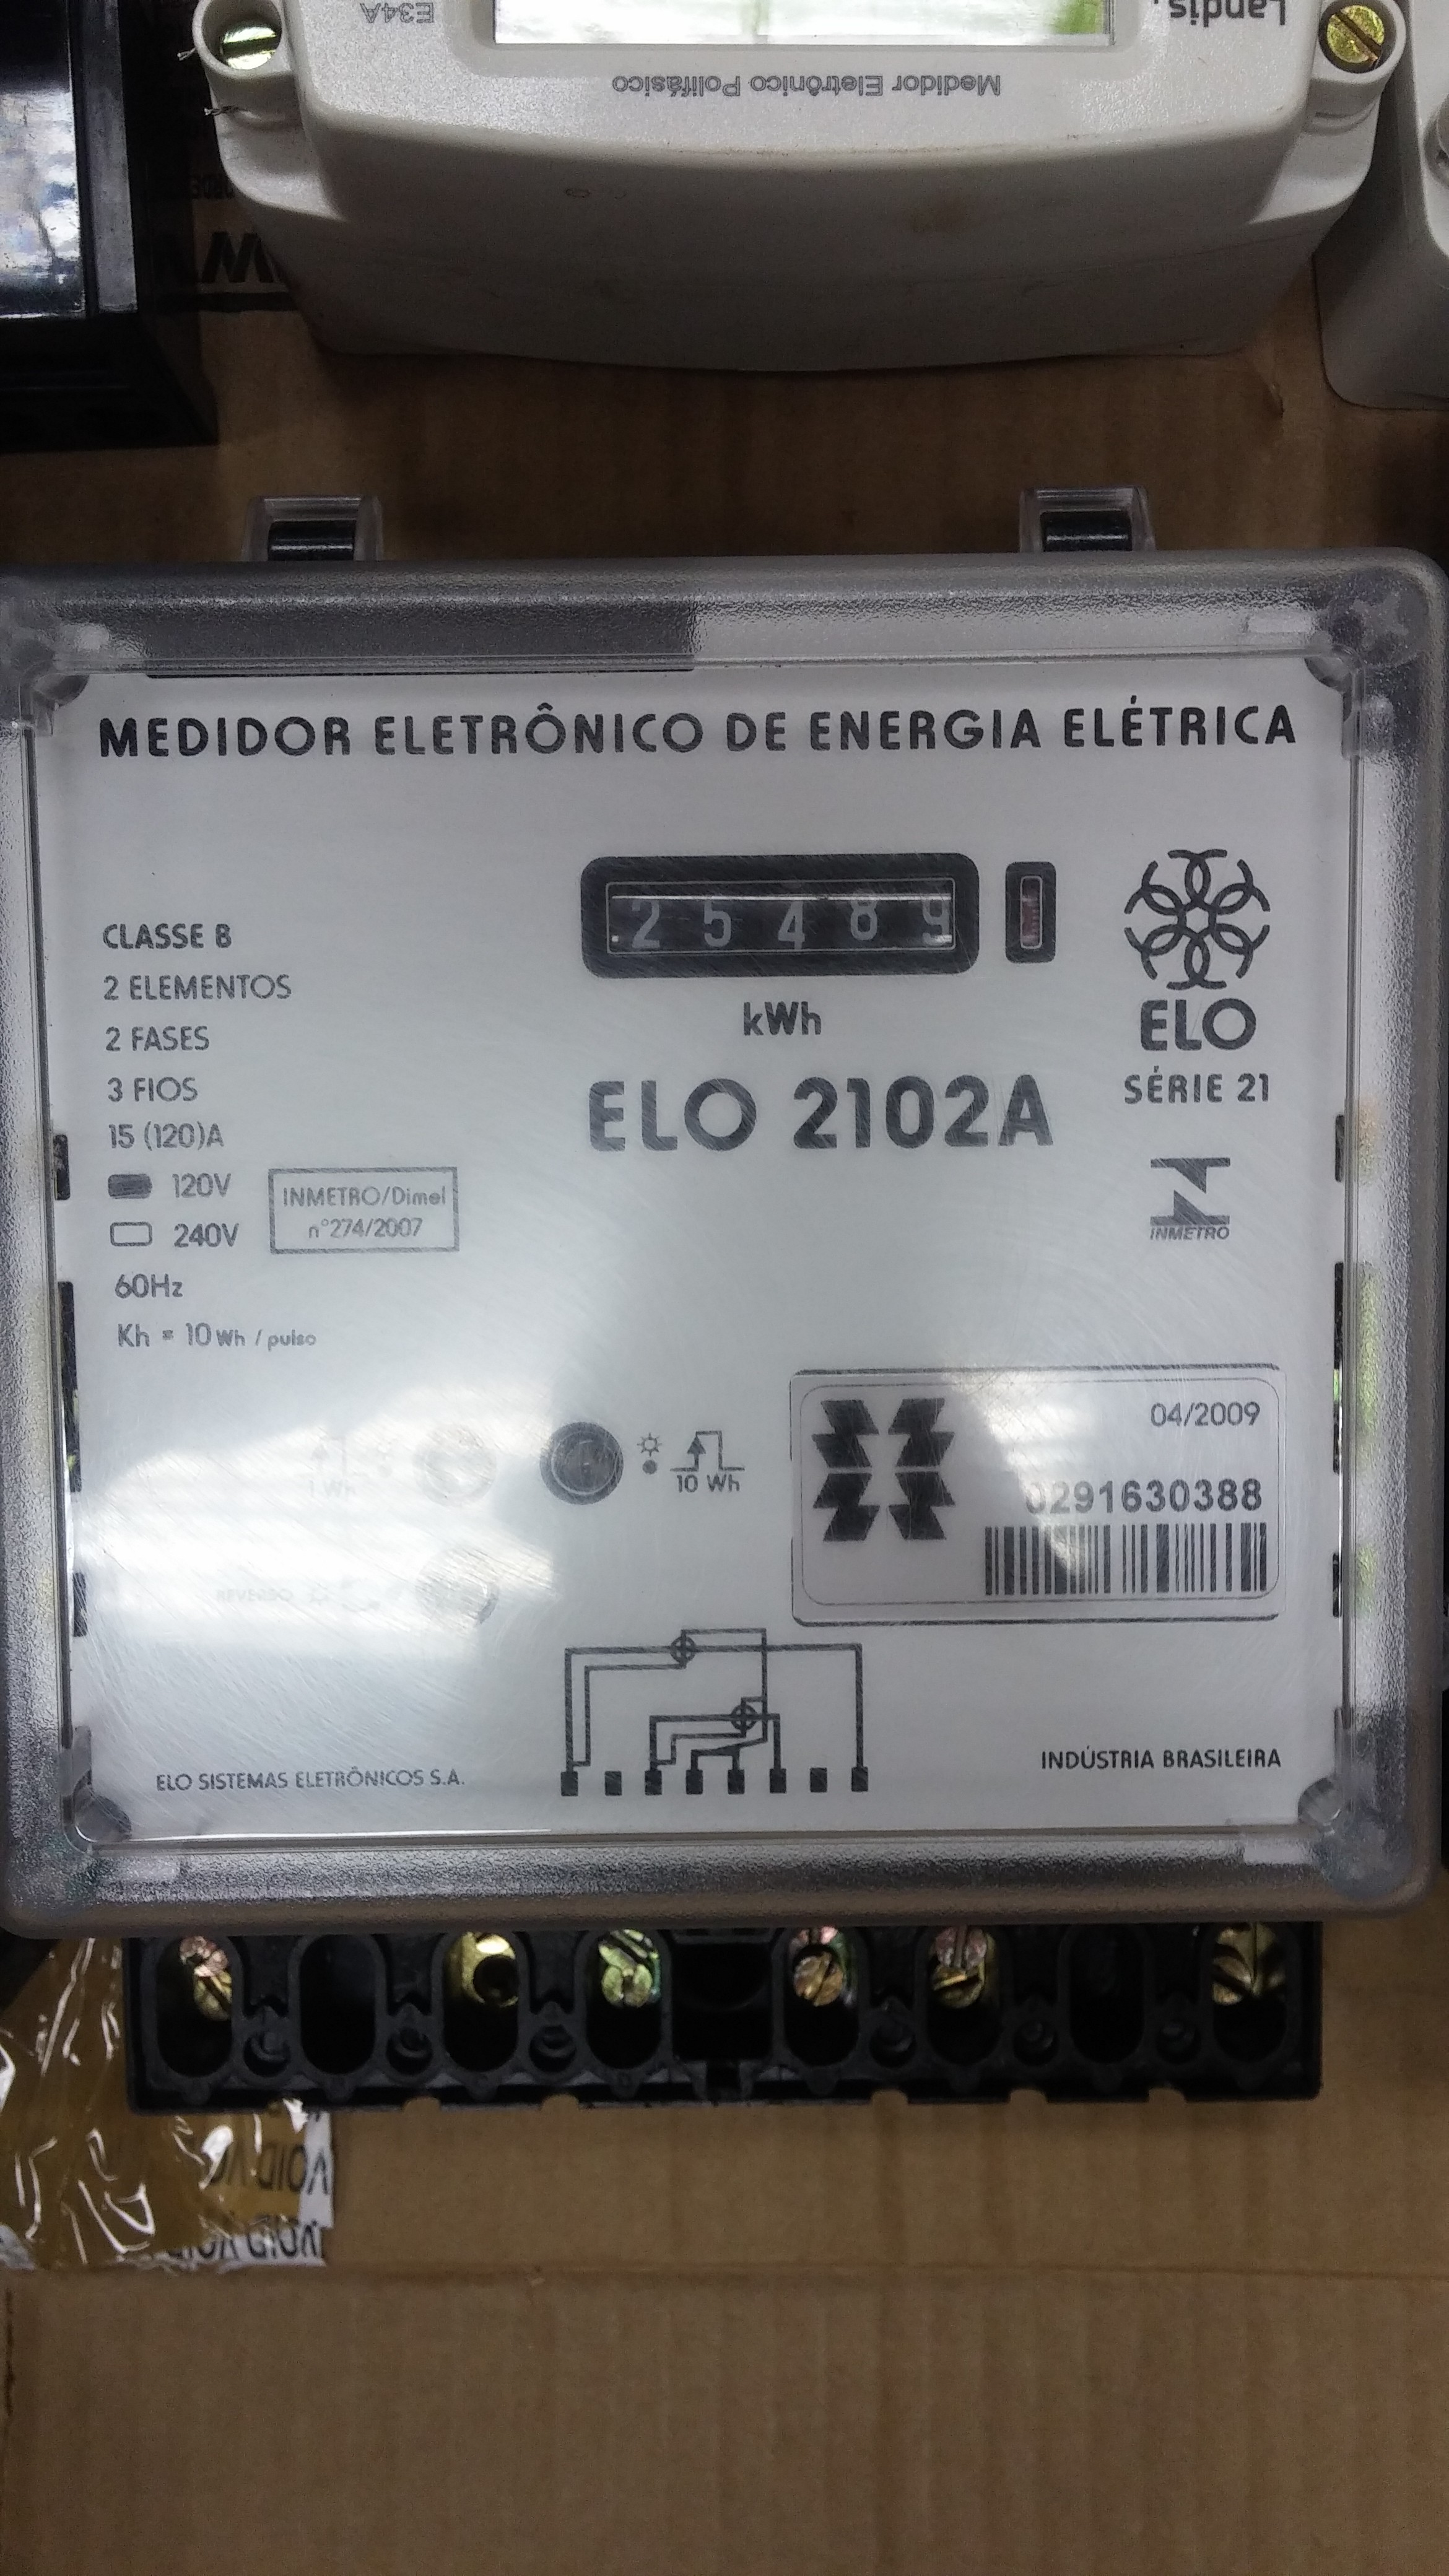counter2: (573, 847, 1000, 982)
